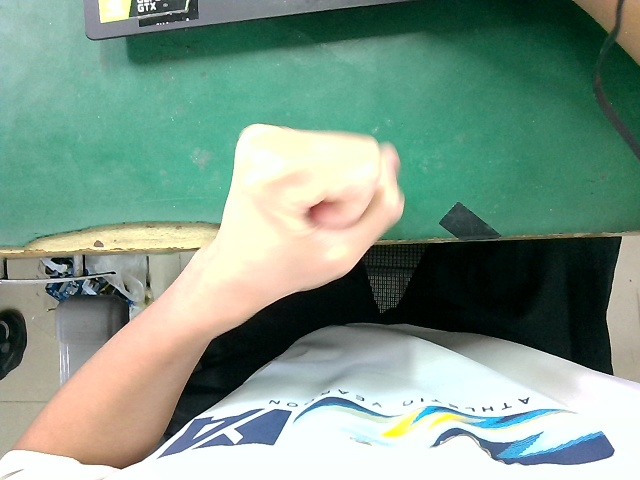stone: (211, 98, 422, 324)
